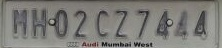character: (172, 10, 189, 40), (31, 7, 47, 38), (154, 9, 170, 39), (12, 8, 28, 37), (135, 9, 149, 38), (193, 10, 207, 39), (114, 9, 127, 38), (95, 9, 108, 37), (55, 9, 67, 38), (74, 10, 86, 38)
